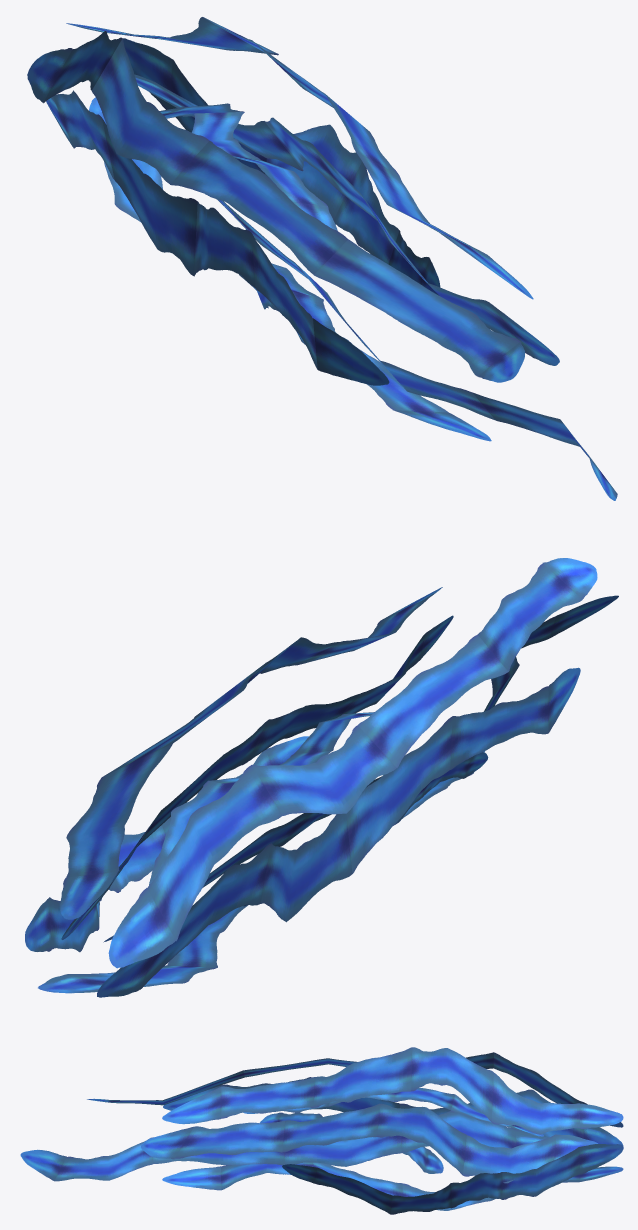
File: siphon.fbx
The picture shows the model from 3 angles, top to bottom: view 1: azimuth 30°, elevation 25°; view 2: azimuth 150°, elevation 25°; view 3: azimuth 270°, elevation 25°; orthographic projection. The views are drawn at different scales.
Parts seen in each view (by area): view 1: Siphon; view 2: Siphon; view 3: Siphon.
Boxes of the visible parts, <box> form: Siphon: <box>27,17,617,500</box>; Siphon: <box>25,558,618,997</box>; Siphon: <box>20,1047,623,1214</box>.
Bounding box in the file's own units: 0.4622 × 0.456 × 1.7.
